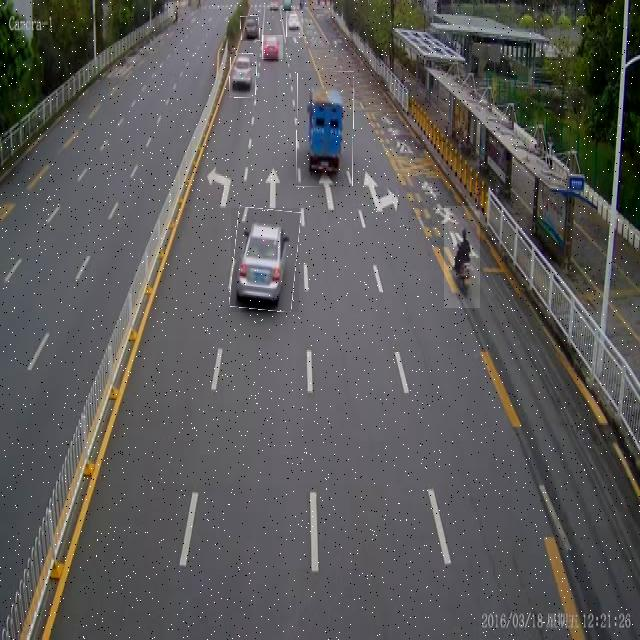Car: (231, 208, 299, 312), (230, 54, 256, 98), (262, 35, 283, 59), (241, 16, 259, 41), (286, 11, 303, 37)
Motorcycle: (444, 206, 480, 308)
Truck: (296, 71, 354, 187)
